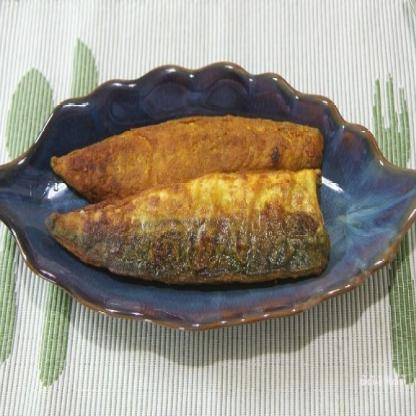Peixe: (0, 101, 344, 333)
